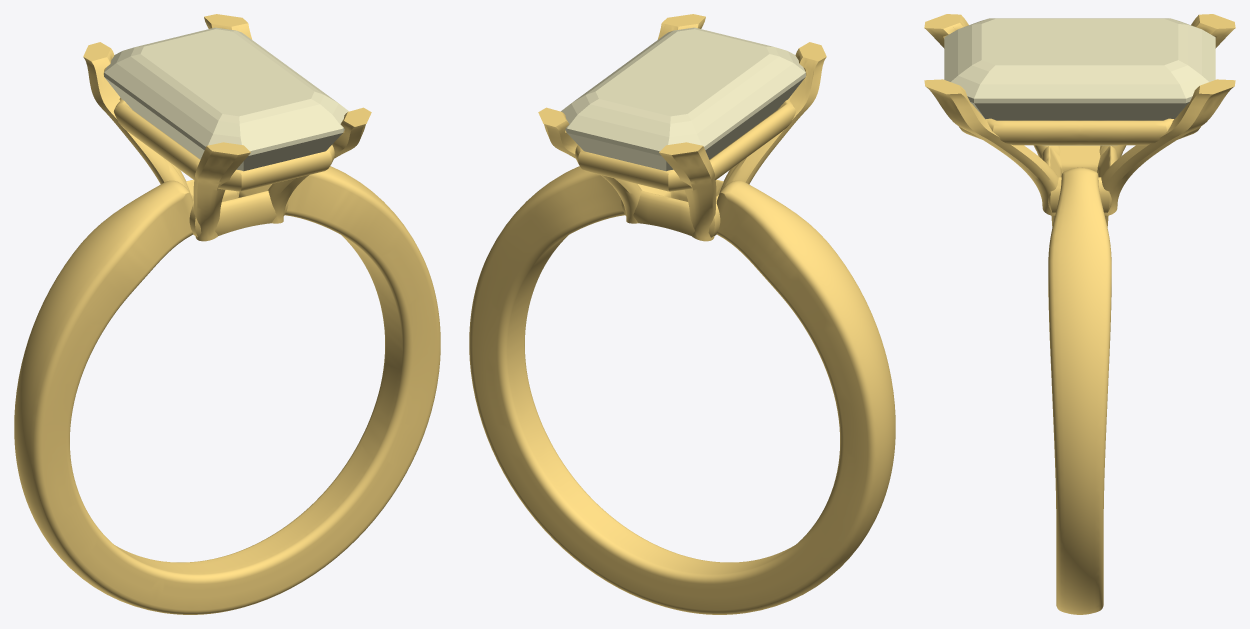
File: NickYellowdiaENGyg.glb
3 renders of one model, left to right at view 1: azimuth 30°, elevation 25°; view 2: azimuth 150°, elevation 25°; view 3: azimuth 270°, elevation 25°, orthographic. The views are drawn at different scales.
Parts seen in each view (by area): view 1: Nick YG for 3d model, Nick dia for 3d model; view 2: Nick YG for 3d model, Nick dia for 3d model; view 3: Nick YG for 3d model, Nick dia for 3d model.
Boxes of the visible parts, x1,y1,x2,y2 form: Nick YG for 3d model: (14,14,440,614); Nick dia for 3d model: (104,27,348,171); Nick YG for 3d model: (469,14,895,614); Nick dia for 3d model: (561,27,805,171); Nick YG for 3d model: (924,14,1235,614); Nick dia for 3d model: (944,18,1215,145).
Bounding box in the file's own units: 18.66 × 22.99 × 11.79.
